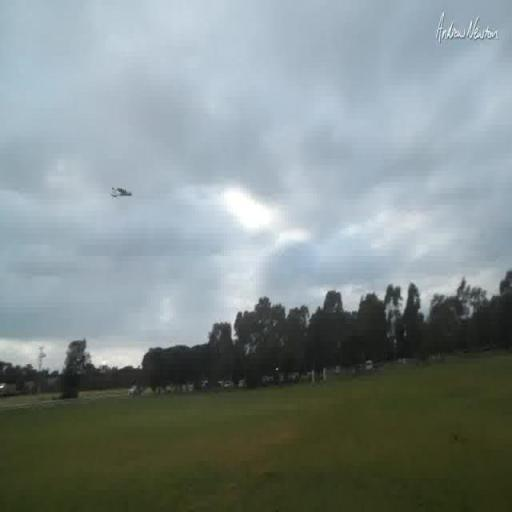uav: (108, 180, 134, 205)
